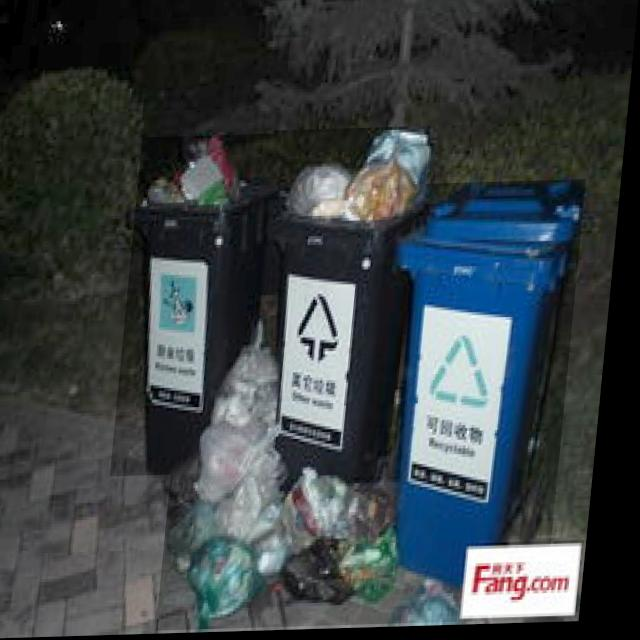garbage: (169, 315, 493, 632)
garbage_bin: (375, 183, 590, 589)
overflow: (251, 129, 434, 482), (120, 135, 278, 477)
